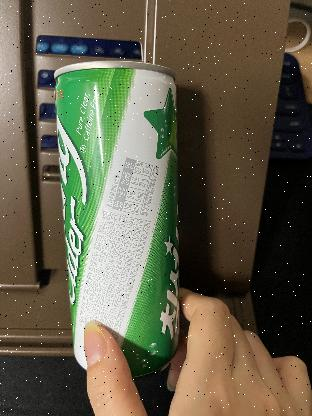Can: (52, 61, 184, 372)
